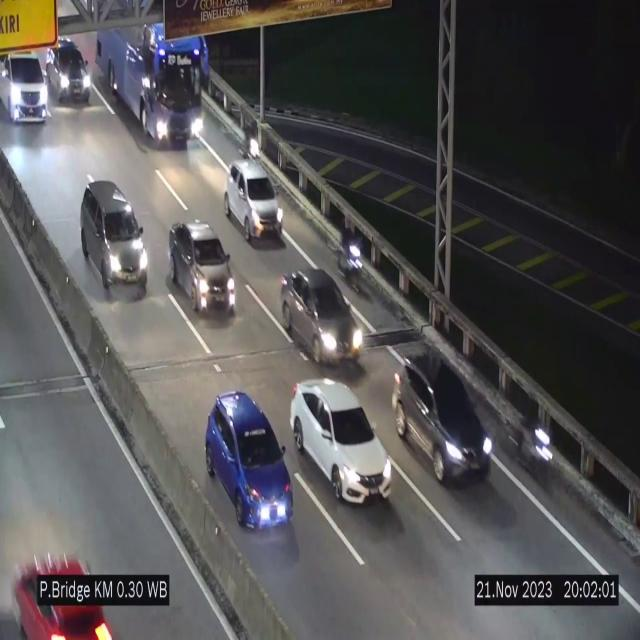Bus: (96, 23, 207, 146)
Car: (392, 345, 494, 483), (290, 379, 392, 502), (206, 392, 294, 526), (0, 540, 116, 640), (279, 266, 361, 373), (78, 179, 151, 295), (167, 218, 237, 321), (225, 158, 283, 244), (0, 50, 49, 126), (46, 35, 90, 103)
Motorcycle: (522, 408, 553, 481), (336, 216, 364, 292), (240, 116, 262, 160)
